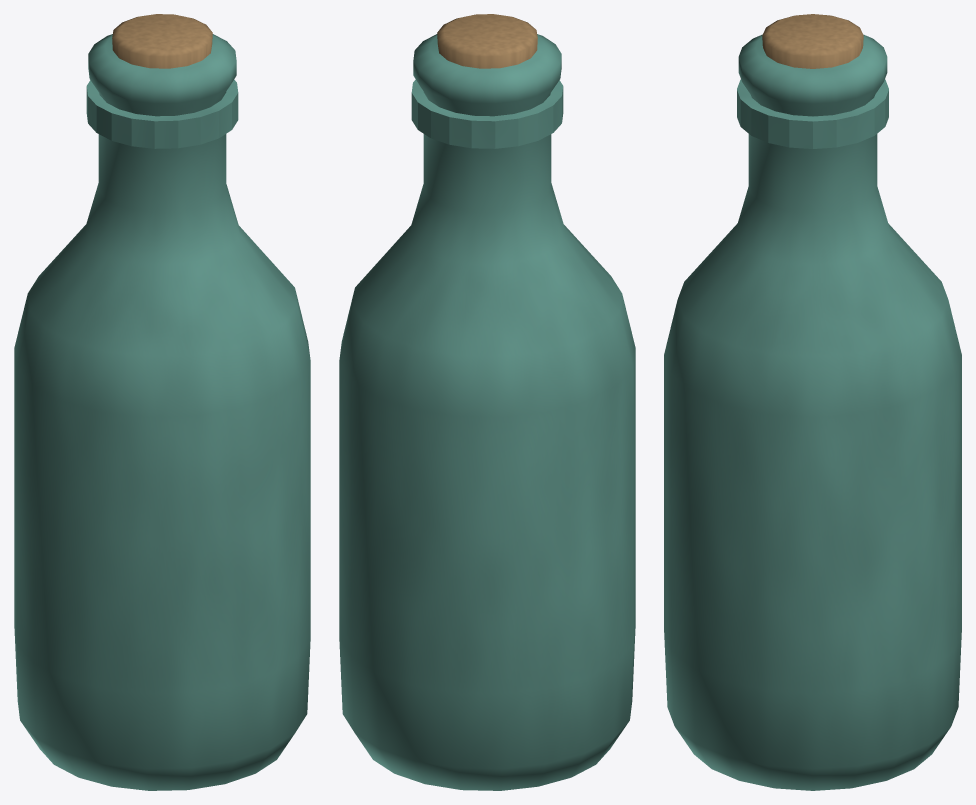
The model's file is old_bottle.fbx.
3 views of the same model, side by side, from view 1: azimuth 30°, elevation 25°; view 2: azimuth 150°, elevation 25°; view 3: azimuth 270°, elevation 25° (orthographic).
Visible parts, largest first — view 1: old_bottle; view 2: old_bottle; view 3: old_bottle.
Part boxes in pixels (x1,y1,x2,y2): old_bottle: (14, 14, 310, 790); old_bottle: (339, 14, 635, 790); old_bottle: (664, 14, 961, 790).
Size of the model in its own units: 0.088 by 0.23 by 0.088.
1 material, 1 textured.
